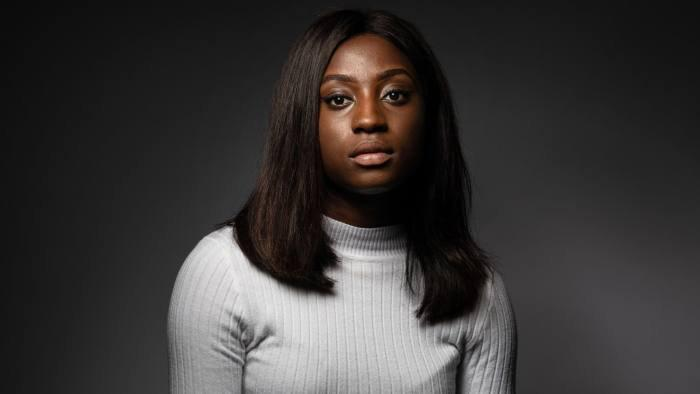Sober: (317, 46, 416, 191)
